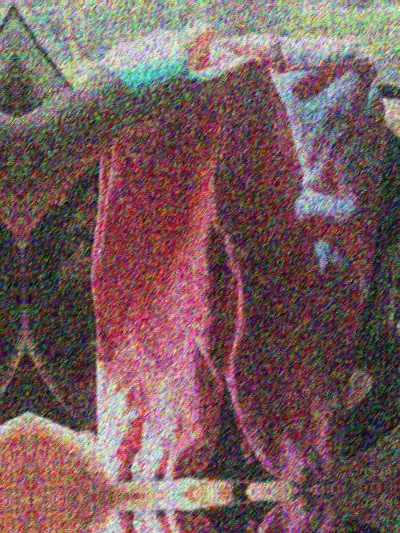Pants: (79, 21, 396, 492), (96, 493, 400, 533)
